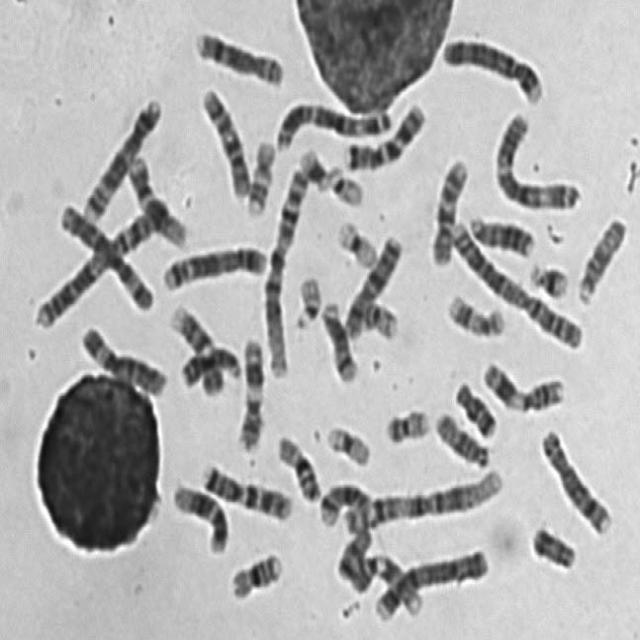A1: (336, 457, 508, 534), (258, 157, 312, 380)
A2: (443, 208, 586, 353), (32, 191, 168, 329)
A3: (486, 102, 584, 212), (270, 91, 397, 152)
B4: (367, 538, 492, 625), (436, 25, 546, 107)
B5: (76, 87, 165, 223), (156, 234, 270, 293)
C10: (194, 76, 252, 200), (424, 146, 472, 268)
C11: (476, 352, 568, 416), (232, 328, 266, 453)
C12: (122, 145, 190, 251), (165, 473, 231, 556)
C6: (54, 194, 158, 315), (74, 316, 169, 399)
C7: (336, 94, 428, 172), (195, 453, 294, 523)
C8: (533, 418, 614, 538), (188, 20, 287, 89)
C9: (338, 541, 427, 619), (163, 294, 227, 399)
D13: (463, 203, 538, 260), (175, 336, 244, 390)
D14: (315, 290, 360, 385), (313, 472, 374, 528)
D15: (570, 206, 629, 308), (428, 401, 493, 470)
E16: (271, 425, 323, 505), (223, 542, 285, 604)
E17: (440, 283, 509, 340), (239, 128, 277, 219)
E18: (448, 371, 500, 439), (329, 518, 375, 586)
F19: (330, 209, 380, 269), (319, 414, 373, 469)
F20: (378, 398, 432, 447), (355, 290, 401, 342)
G21: (523, 252, 571, 302), (293, 136, 332, 194)
G22: (321, 155, 366, 208), (289, 265, 323, 330)
X: (338, 226, 406, 340)
Y: (523, 514, 579, 572)
